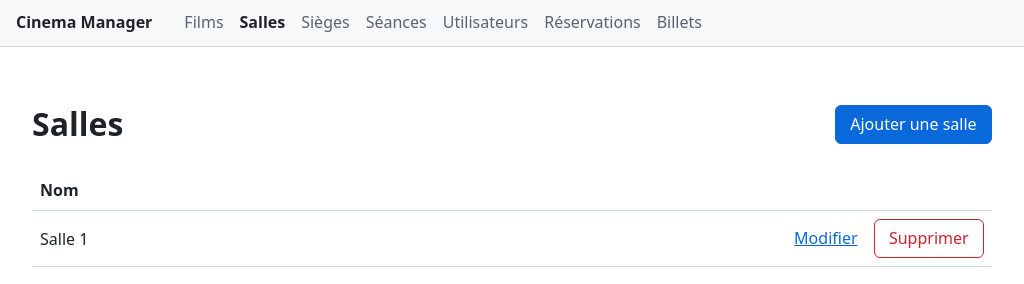
Test: RoomsPage › deletes a room after confirmation
The width and height of the screenshot is (1024, 284).
Click the button "Supprimer".
click(929, 238)  # box [874,219,984,258]
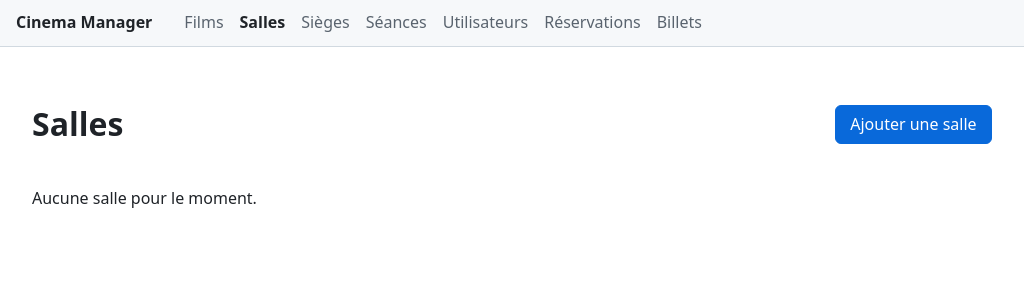
expect the text "Aucune salle pour le moment." is shown: met, box [32,187,257,209]
